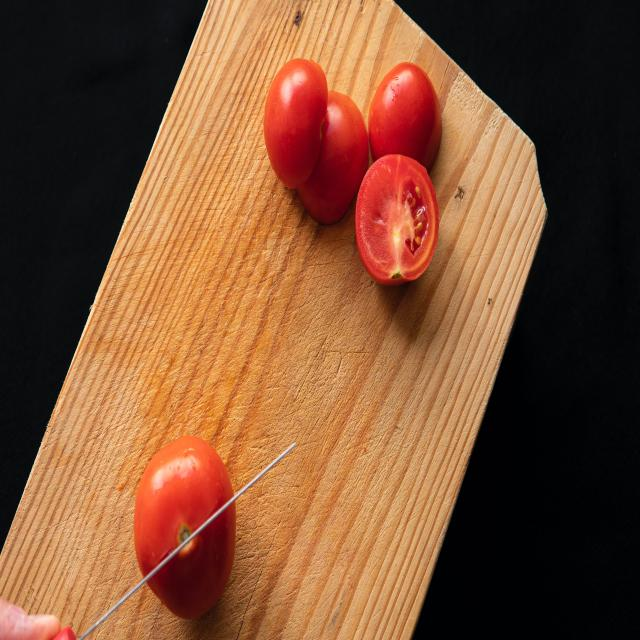Tomato: (352, 158, 442, 286)
